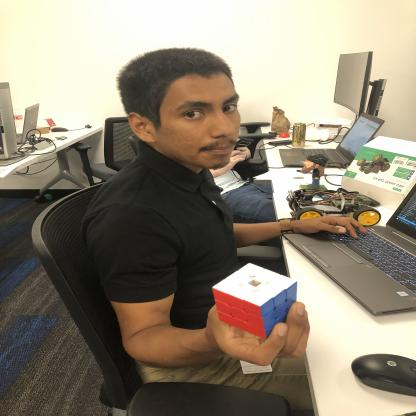SolvedCube: (213, 262, 302, 338)
